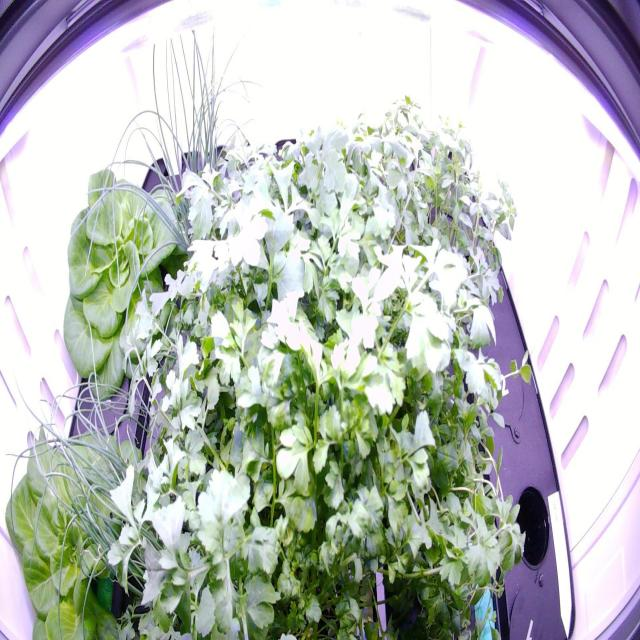empty_pod: (502, 477, 557, 578), (479, 342, 531, 448)
young: (55, 152, 203, 418), (0, 410, 163, 638)
